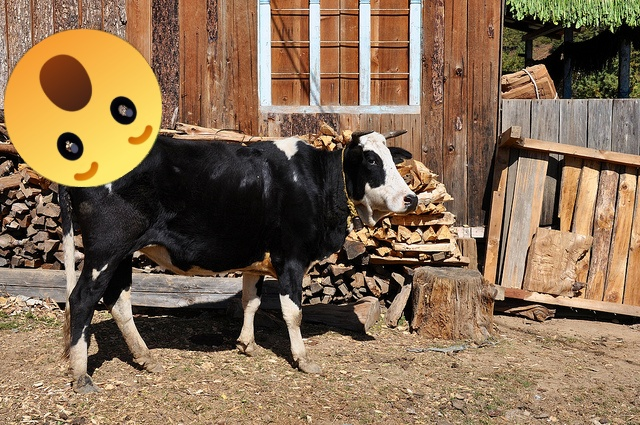wow: (4, 29, 162, 187)
